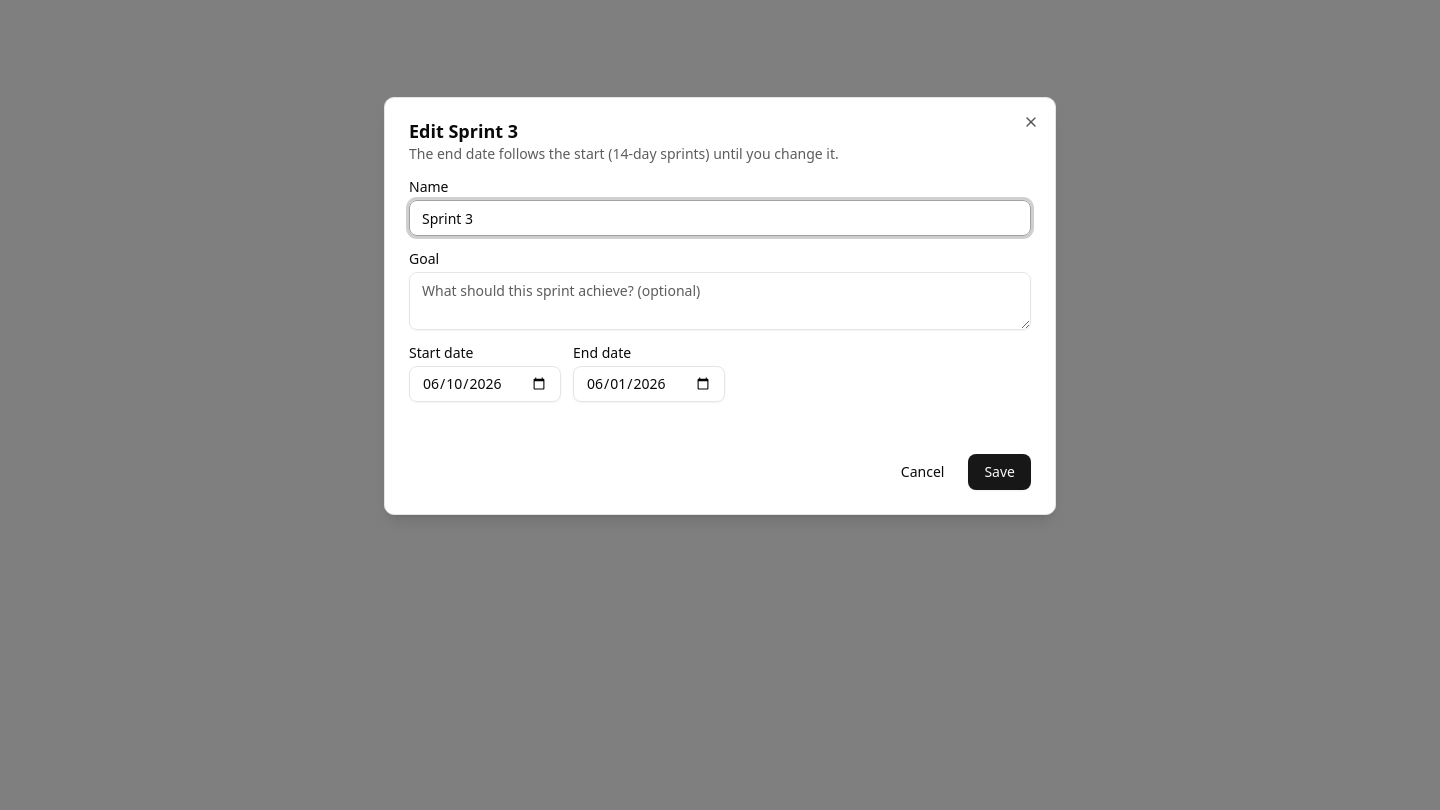
Test: SprintFormDialog (SPR-1) › reports an end before the start in a live region
What coordinates should you click on to do the following:
click the button "Save"
I would click on:
 (1000, 472)
Its box is [968,454,1031,490].
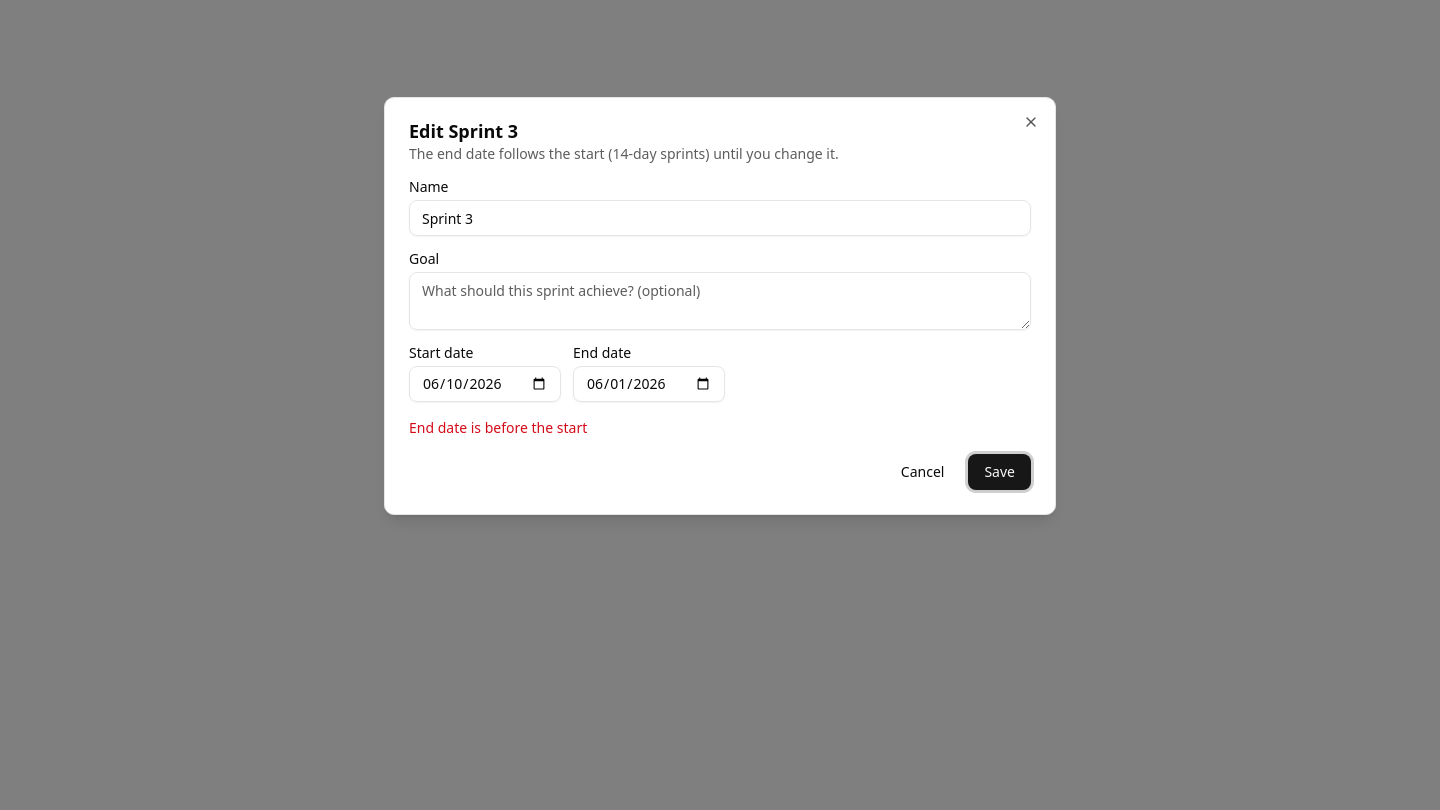
Result: the message reads "End date is before the start" at [409,418,587,437]
